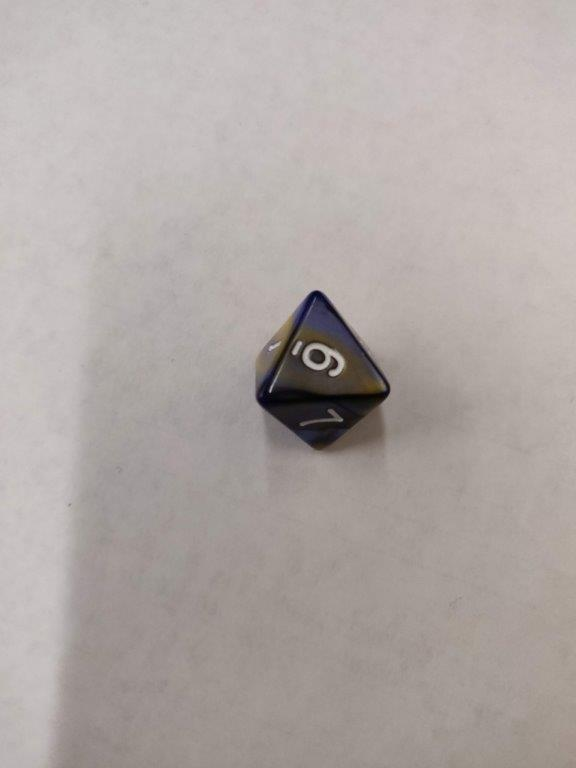d8-6: (256, 288, 392, 454)
